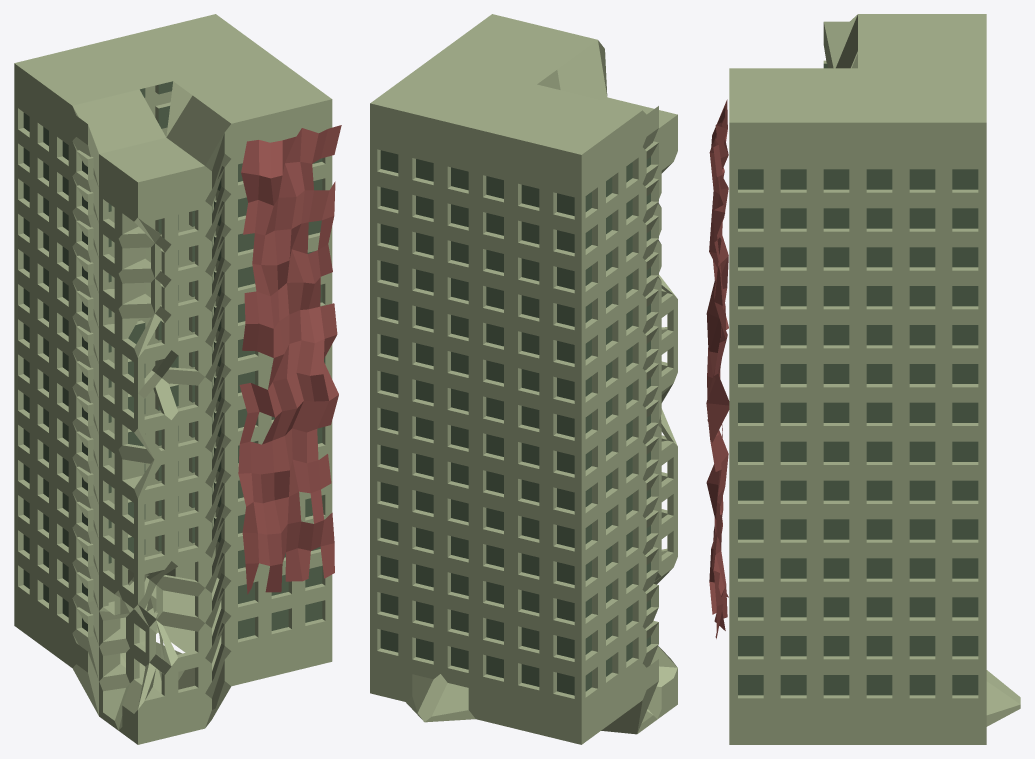
The model's file is 08 Building_3.FBX.
The picture shows the model from 3 angles, left to right: view 1: azimuth 30°, elevation 25°; view 2: azimuth 150°, elevation 25°; view 3: azimuth 270°, elevation 25°; orthographic projection. The views are drawn at different scales.
Visible parts, largest first — view 1: Building_3; view 2: Building_3; view 3: Building_3.
Part boxes in pixels (x1,y1,x2,y2): Building_3: (14,14,341,744); Building_3: (370,14,677,744); Building_3: (706,14,1020,744).
Size of the model in its own units: 1517 by 4315 by 1831.
